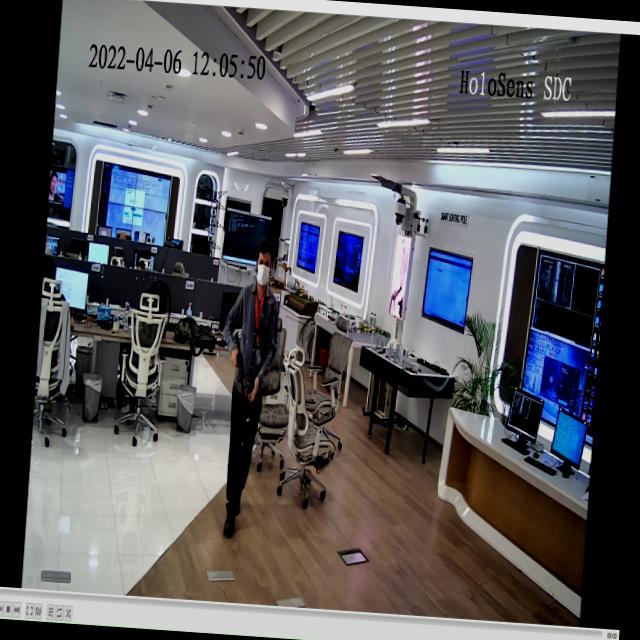long weapon: (222, 325, 262, 437)
